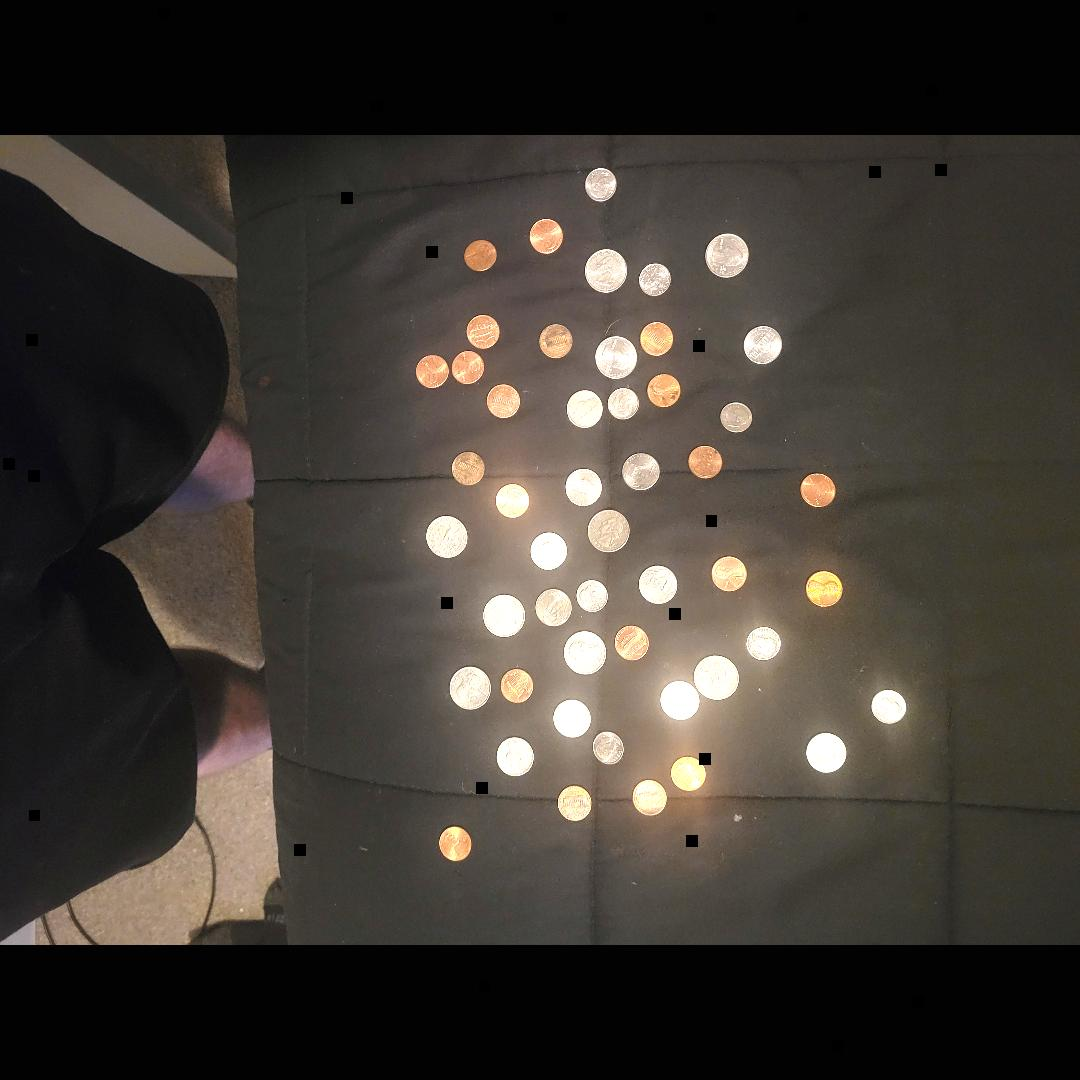Dime: (871, 690, 907, 725), (582, 168, 618, 202), (746, 627, 782, 661), (638, 264, 670, 296), (592, 732, 624, 764), (608, 386, 639, 418), (576, 582, 608, 612), (720, 403, 752, 433)
Nickel: (806, 733, 846, 773), (637, 565, 677, 603), (552, 698, 592, 736), (742, 326, 782, 363), (661, 682, 699, 719), (623, 453, 660, 490), (565, 469, 602, 506), (565, 392, 603, 428), (496, 738, 534, 774), (530, 534, 568, 570), (536, 590, 570, 626)
Penny: (806, 572, 843, 606), (465, 314, 501, 348), (686, 446, 722, 480), (558, 784, 592, 820), (450, 452, 486, 486), (615, 627, 651, 661), (799, 474, 835, 508), (632, 780, 667, 814), (540, 324, 574, 358), (639, 322, 673, 356), (527, 221, 561, 255), (496, 484, 530, 518), (438, 827, 472, 861), (712, 558, 748, 590), (670, 758, 706, 790), (488, 384, 522, 416), (414, 356, 448, 388), (500, 670, 534, 702), (452, 353, 484, 385), (464, 239, 496, 271), (648, 375, 680, 407)
Quarter: (703, 233, 747, 277), (484, 595, 528, 637), (584, 249, 626, 291), (595, 337, 637, 379), (564, 632, 606, 674), (696, 656, 738, 698), (448, 668, 492, 708), (425, 516, 468, 556), (588, 510, 630, 550)
